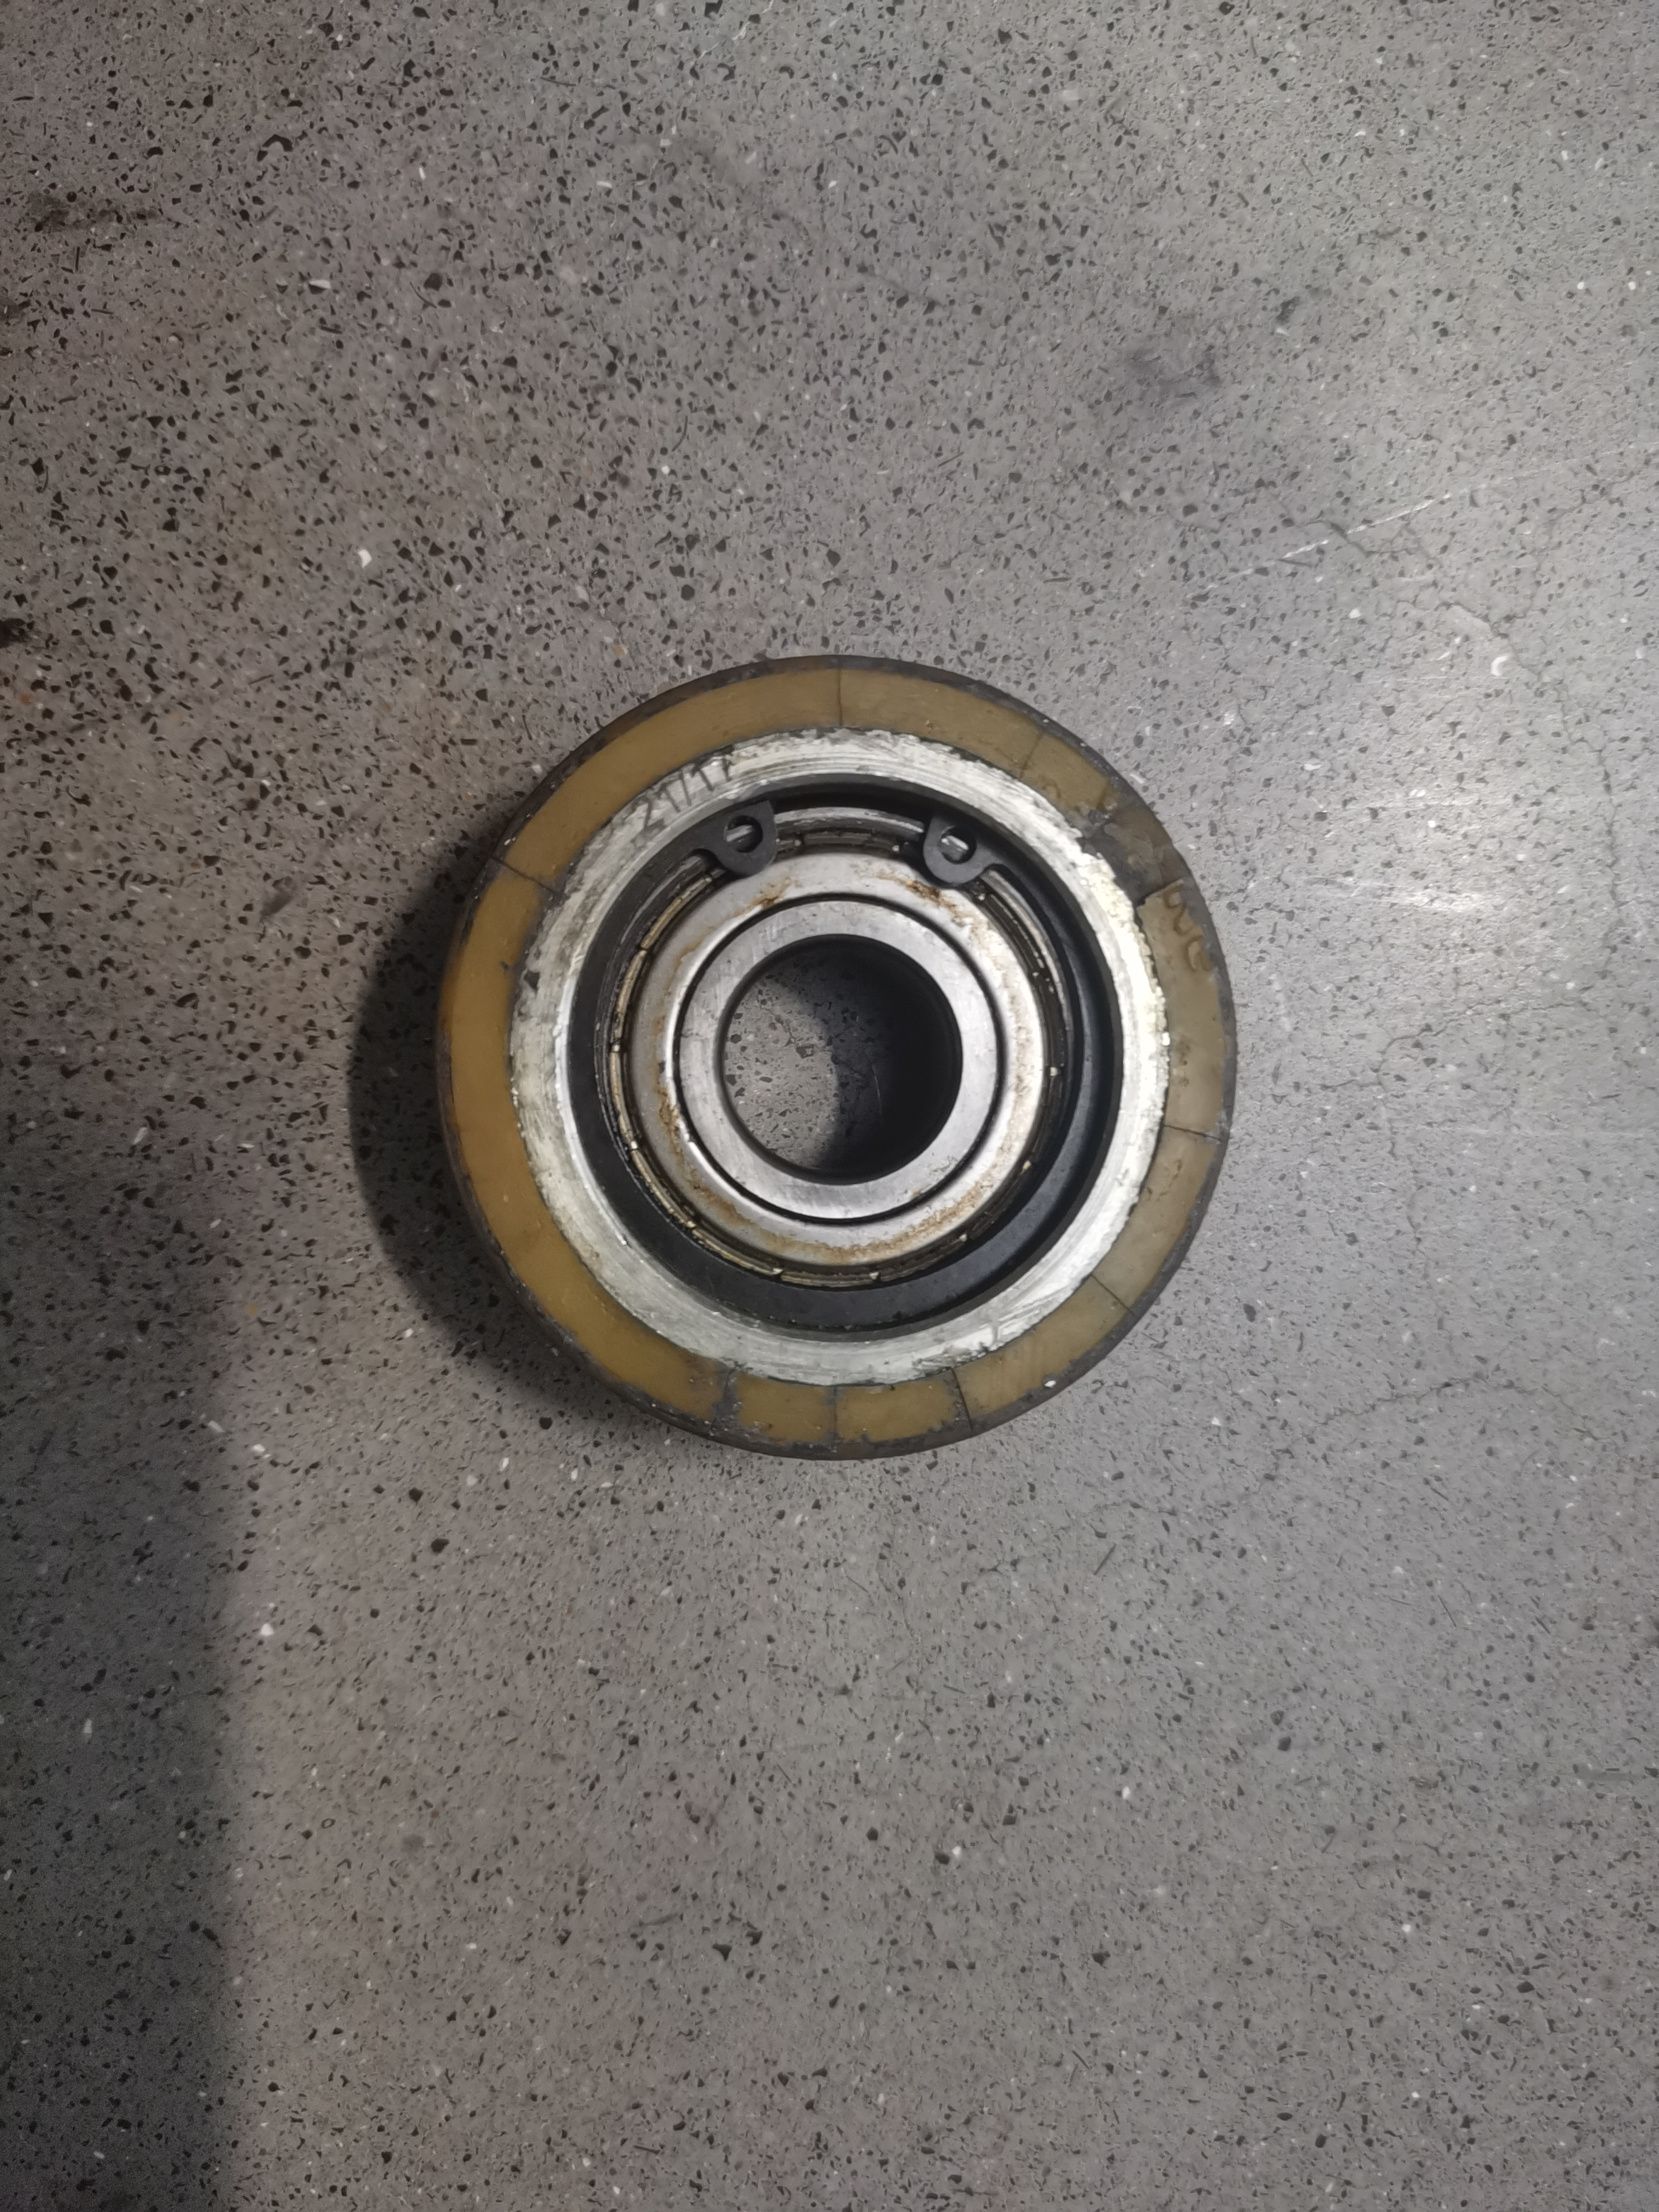bad_wheel: (1129, 1073, 1326, 1240), (685, 1336, 887, 1498), (1079, 754, 1220, 982), (908, 1315, 1065, 1517), (746, 624, 913, 791), (467, 815, 613, 942)
